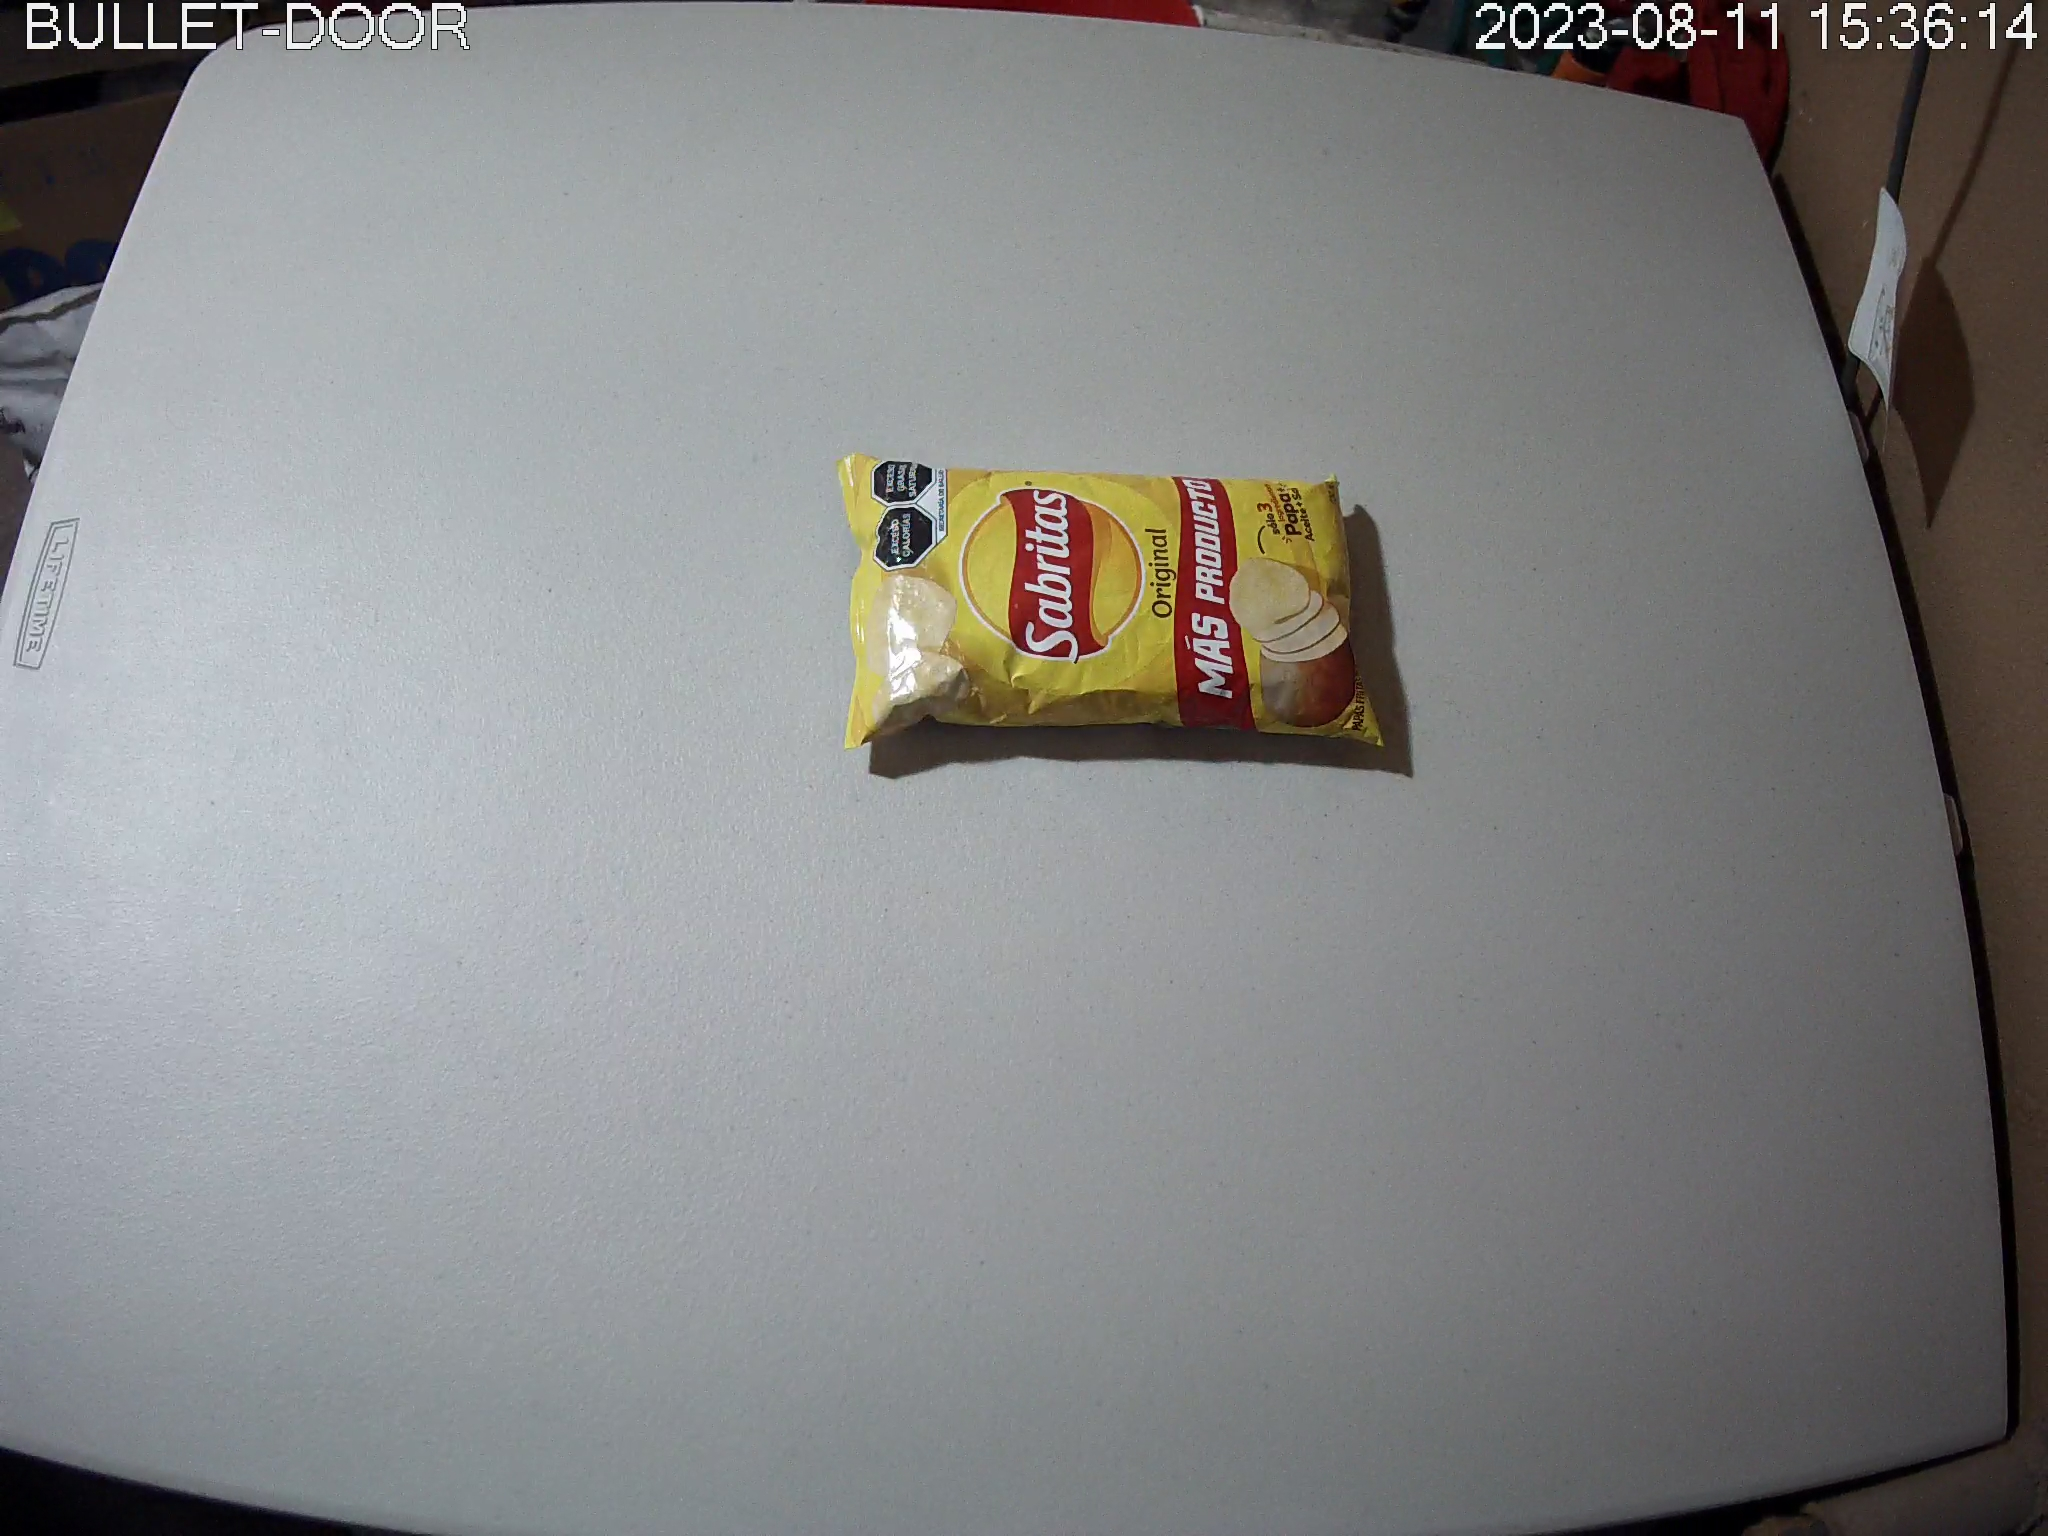Sabritas_45_F: (835, 453, 1385, 749)
